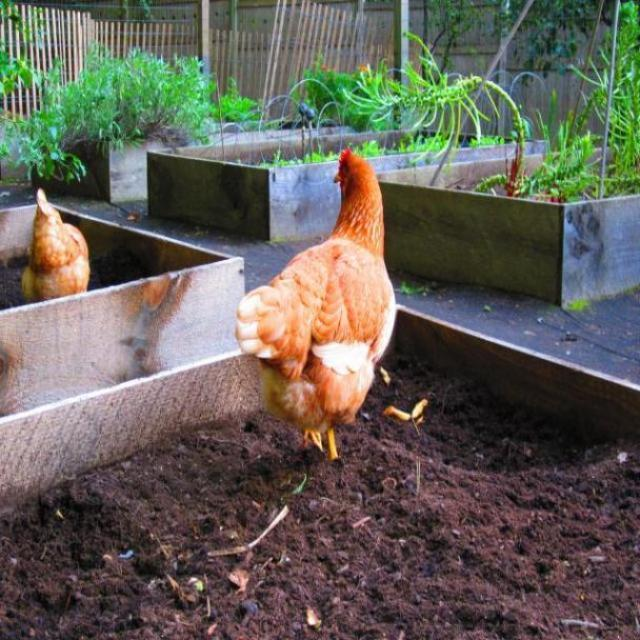Chicken: (238, 149, 397, 463)
